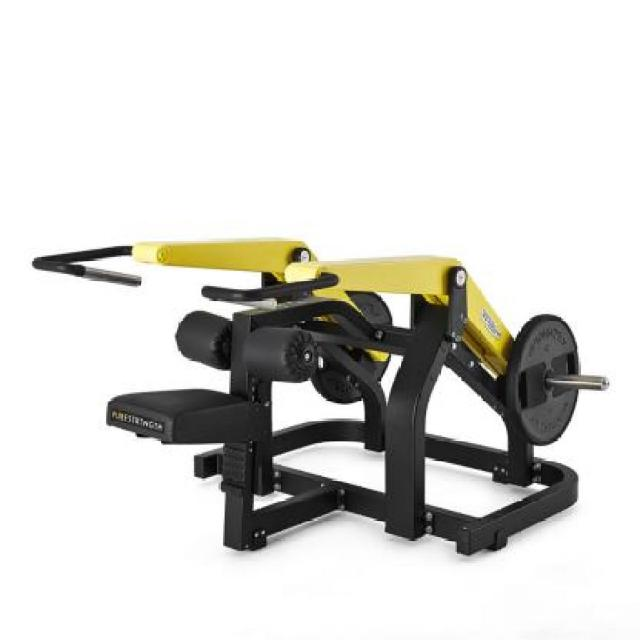seated dip machine: (29, 238, 609, 554)
